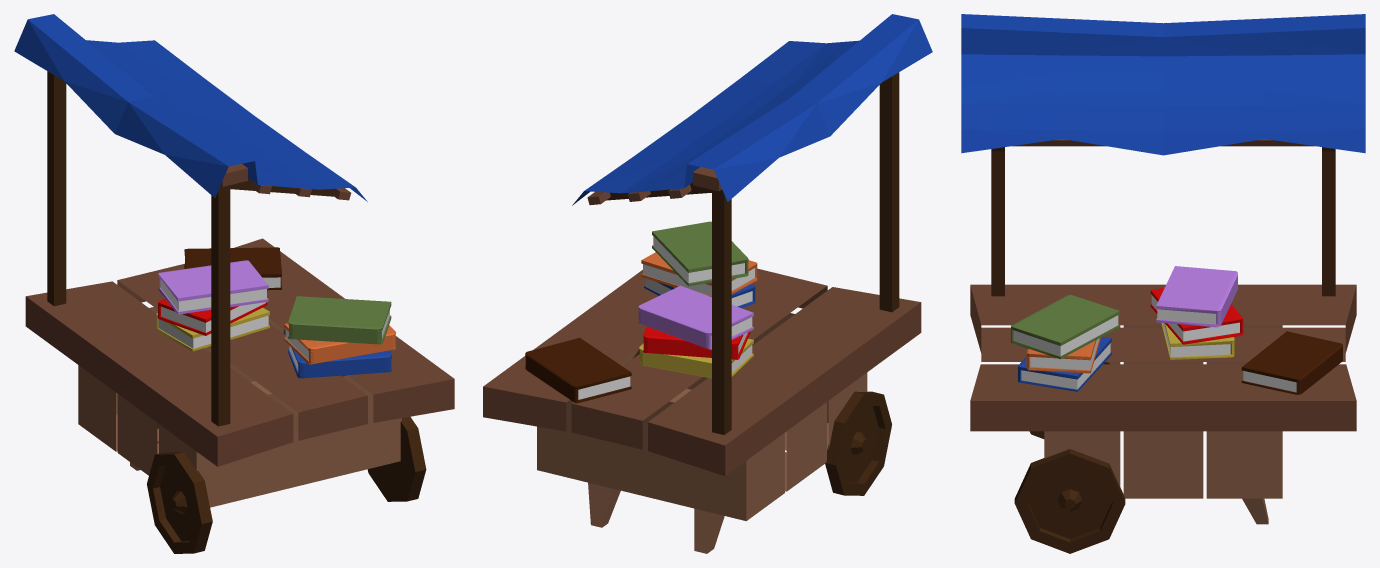
File: BookStand2.fbx
3 views of the same model, side by side, from view 1: azimuth 30°, elevation 25°; view 2: azimuth 150°, elevation 25°; view 3: azimuth 270°, elevation 25° (orthographic). The views are drawn at different scales.
Parts seen in each view (by area): view 1: BookStand; view 2: BookStand; view 3: BookStand.
Boxes of the visible parts, left/top/right/bottom form: BookStand: left=14, top=14, right=454, bottom=553; BookStand: left=483, top=14, right=932, bottom=553; BookStand: left=961, top=14, right=1365, bottom=553.
Size of the model in its own units: 930 by 1556 by 1327.
